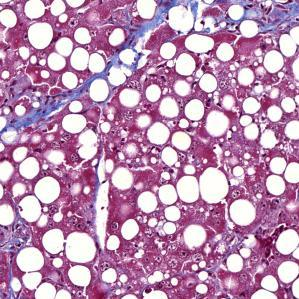fibrosis: (24, 88, 89, 126), (266, 7, 297, 30)
